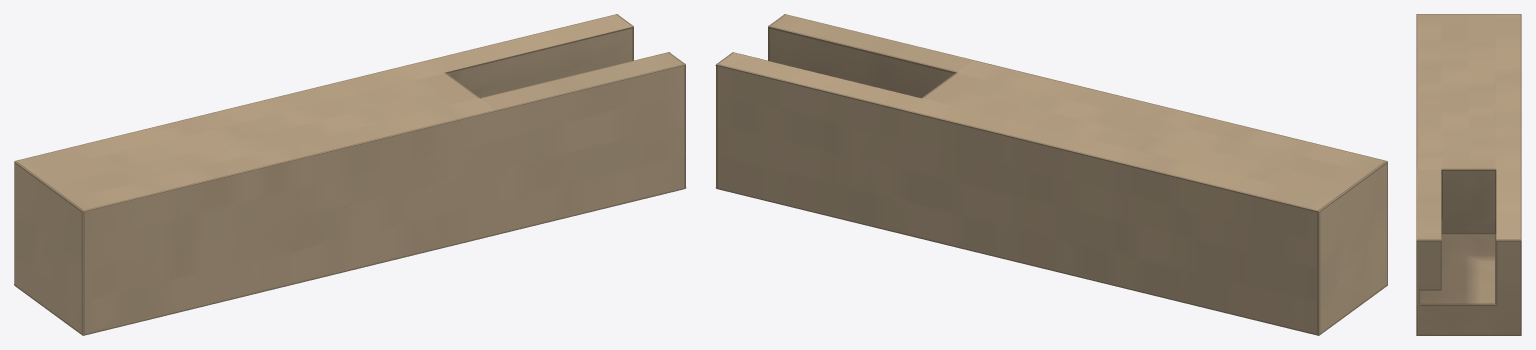
3 views of the same model, side by side, from view 1: azimuth 30°, elevation 25°; view 2: azimuth 150°, elevation 25°; view 3: azimuth 270°, elevation 25° (orthographic). The views are drawn at different scales.
Parts seen in each view (by area): view 1: part-a; view 2: part-a; view 3: part-a.
Boxes of the visible parts, bbox=[...] form: part-a: bbox=[14, 14, 686, 335]; part-a: bbox=[715, 14, 1387, 335]; part-a: bbox=[1416, 14, 1521, 335].
Size of the model in its own units: 0.6117 by 0.1208 by 0.1208.
